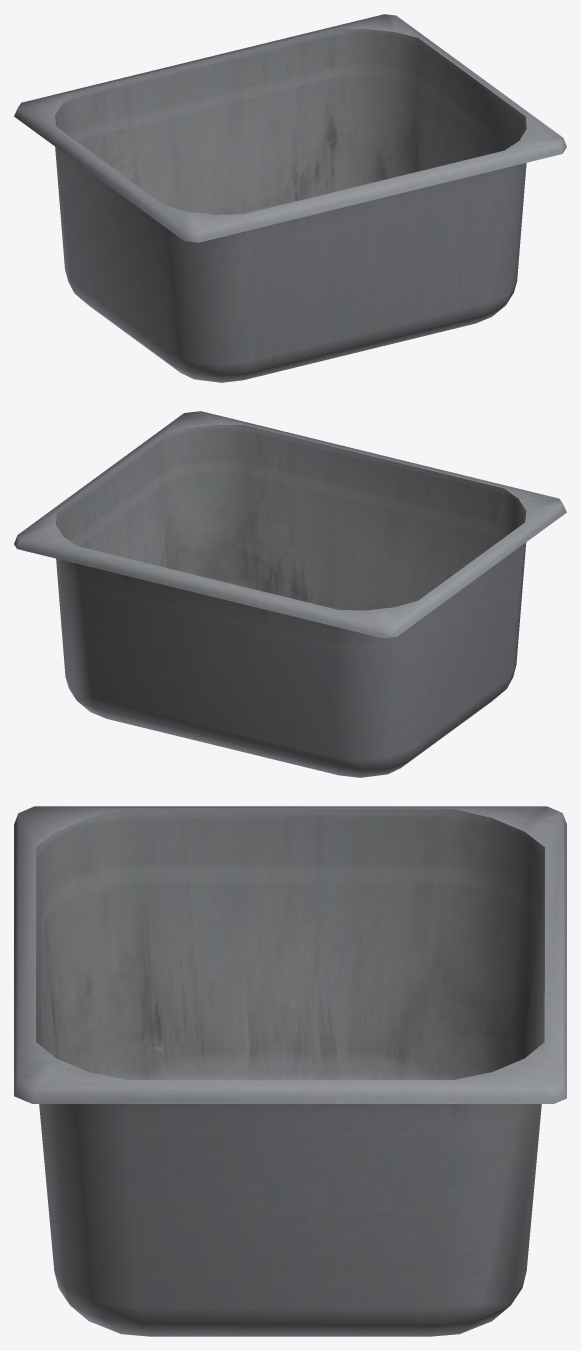
File: SM_Hotel_Pan150_1_2_01.glb
3 views of the same model, one above another, from view 1: azimuth 30°, elevation 25°; view 2: azimuth 150°, elevation 25°; view 3: azimuth 270°, elevation 25° (orthographic). The views are drawn at different scales.
Visible parts, largest first — view 1: SM_Hotel_Pan150_1_2_01; view 2: SM_Hotel_Pan150_1_2_01; view 3: SM_Hotel_Pan150_1_2_01.
Part boxes in pixels (box(x1,y1,x2,y2)): SM_Hotel_Pan150_1_2_01: box(14, 14, 566, 382); SM_Hotel_Pan150_1_2_01: box(14, 411, 566, 777); SM_Hotel_Pan150_1_2_01: box(14, 806, 566, 1336).
Bounding box in the file's own units: 0.325 × 0.1492 × 0.2652.
1 material, 1 textured.
